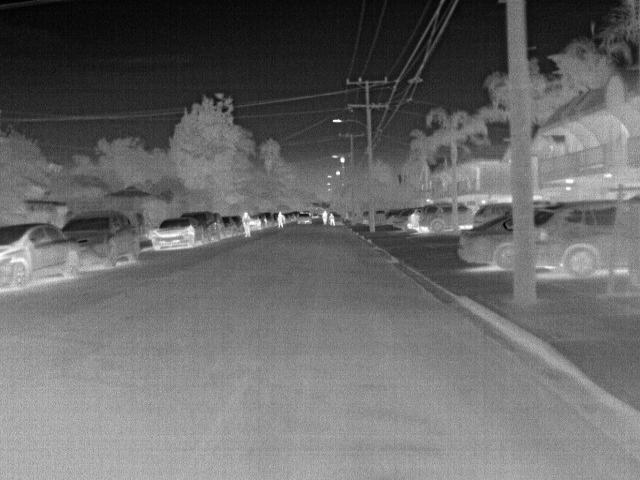car: (536, 202, 629, 280), (0, 223, 81, 290), (59, 209, 141, 270), (454, 211, 512, 273), (148, 218, 201, 250), (415, 199, 453, 235), (179, 210, 216, 241), (476, 198, 513, 229), (209, 211, 227, 239), (393, 208, 413, 230), (459, 200, 474, 226), (222, 216, 238, 236), (232, 214, 246, 234), (293, 211, 313, 225), (251, 214, 264, 230), (262, 211, 275, 227)
person: (240, 211, 253, 238), (274, 210, 288, 230), (329, 211, 337, 228), (321, 209, 330, 224)
